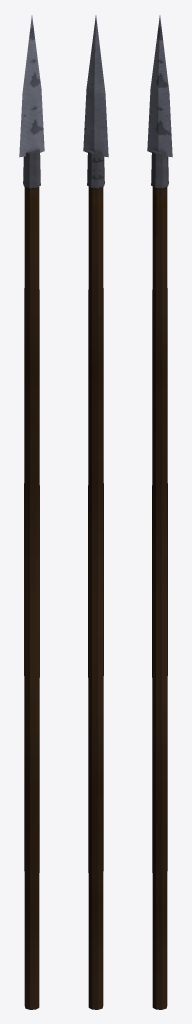
File: w_spear.glb
3 renders of one model, left to right at view 1: azimuth 30°, elevation 25°; view 2: azimuth 150°, elevation 25°; view 3: azimuth 330°, elevation 25°, orthographic.
Visible parts, largest first — view 1: haft, spearhead, socket; view 2: haft, spearhead, socket; view 3: haft, spearhead, socket.
Boxes of the visible parts, box(x1,y1,x2,y2) form: haft: box(24, 186, 39, 1009); spearhead: box(19, 15, 44, 157); socket: box(23, 149, 40, 188); haft: box(88, 186, 103, 1009); spearhead: box(83, 15, 108, 157); socket: box(87, 149, 104, 188); haft: box(152, 186, 167, 1009); spearhead: box(147, 15, 172, 157); socket: box(151, 149, 168, 188).
Bounding box in the file's own units: 0.07 × 2.62 × 0.044.
Materials: 3 (3 with a texture image).
